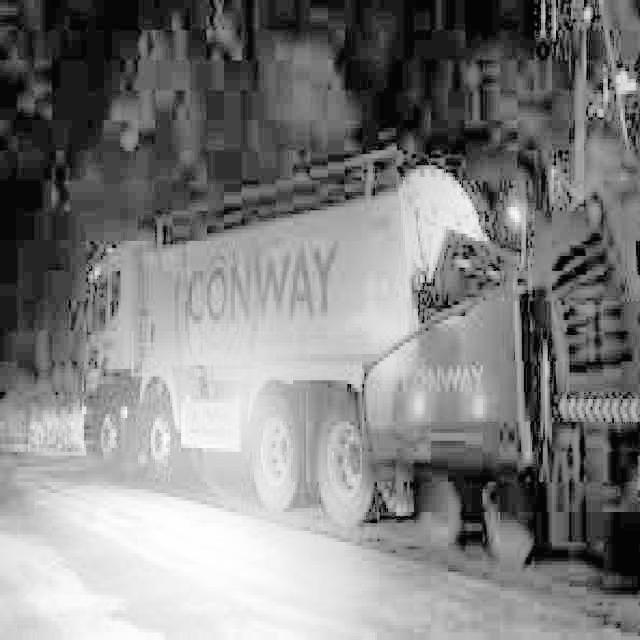Truck: (71, 147, 552, 554)
